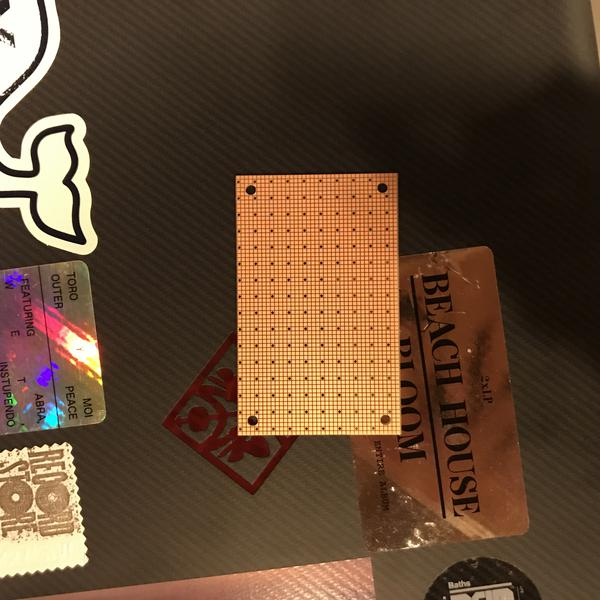board: (232, 172, 403, 437)
